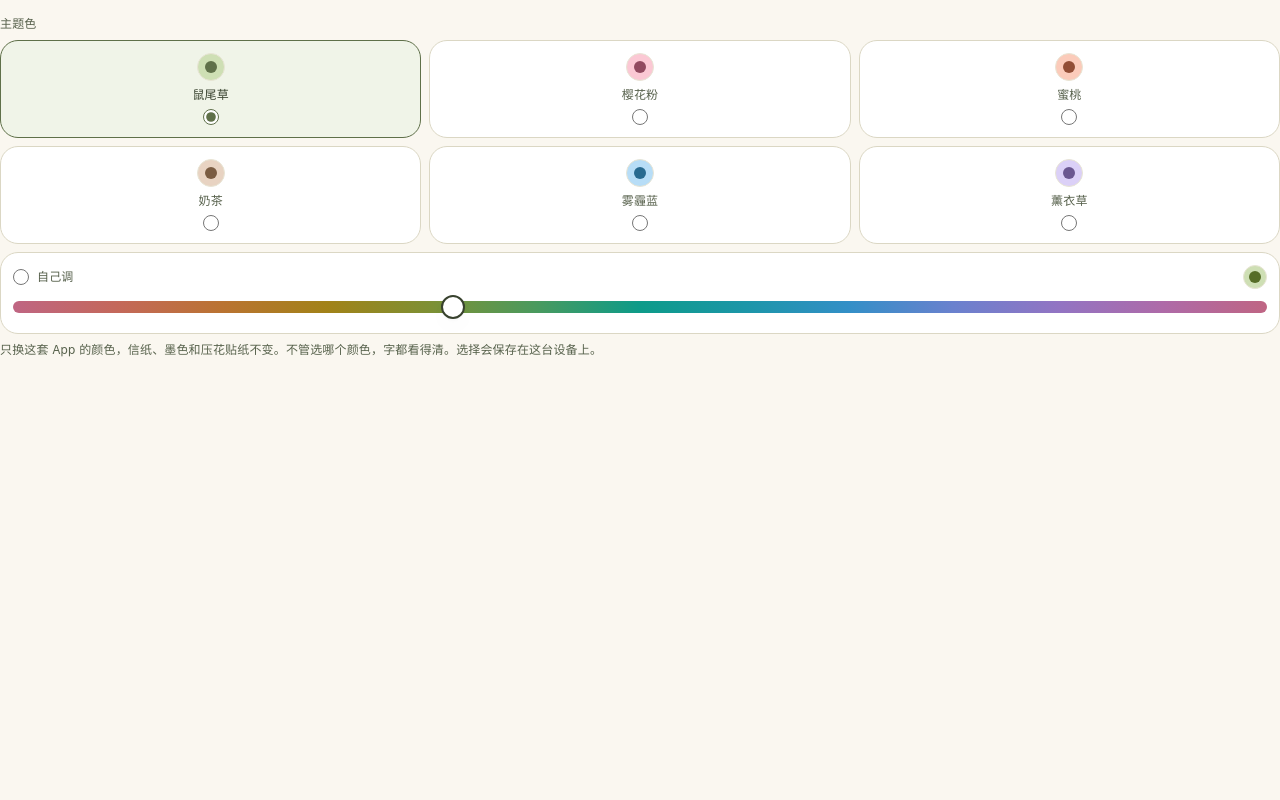
it: 主题色 › 拖「自己调」的滑条就是自己调：记下色相，读屏报「色相 N 度」
Set the slider named "自己调：色相" to "200": (711, 307) [13, 301, 1267, 313]
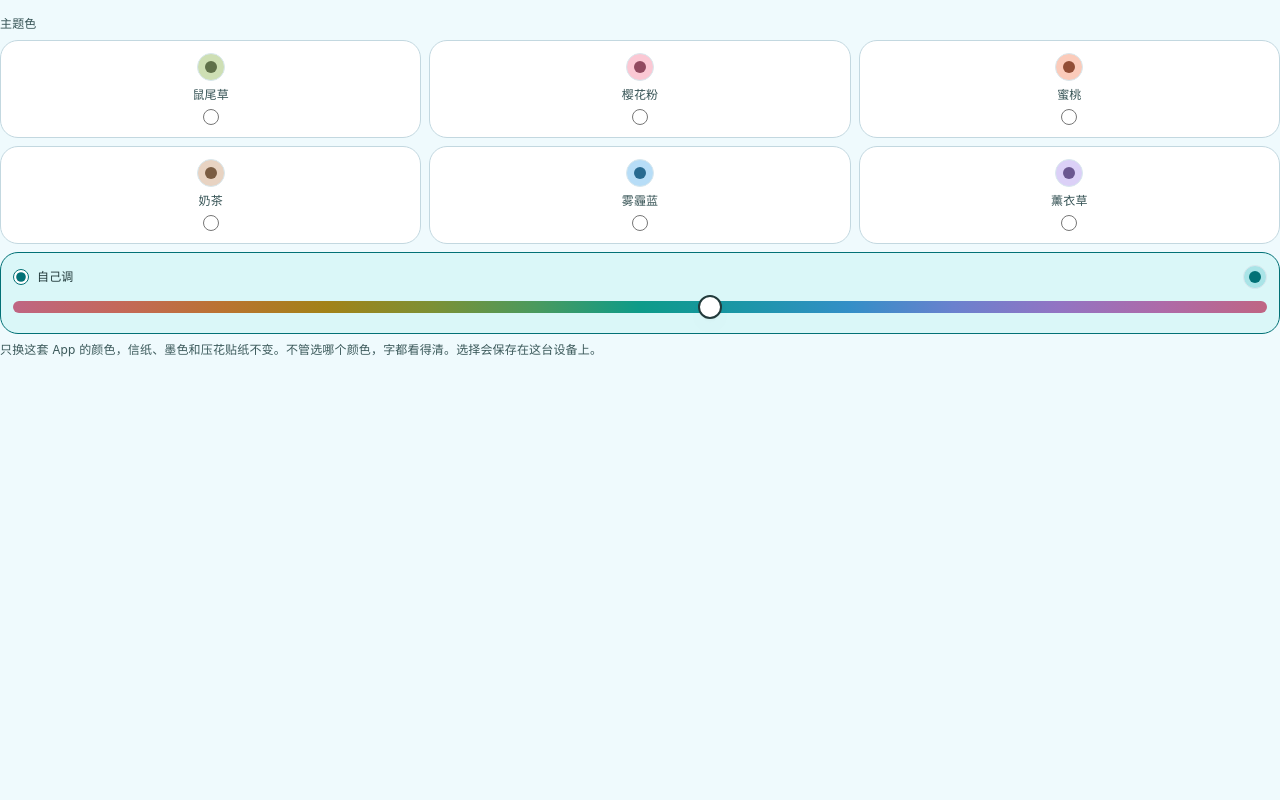
Expected: the radio button with aria-label "主题色：自己调" is checked, [13, 269, 29, 285]
